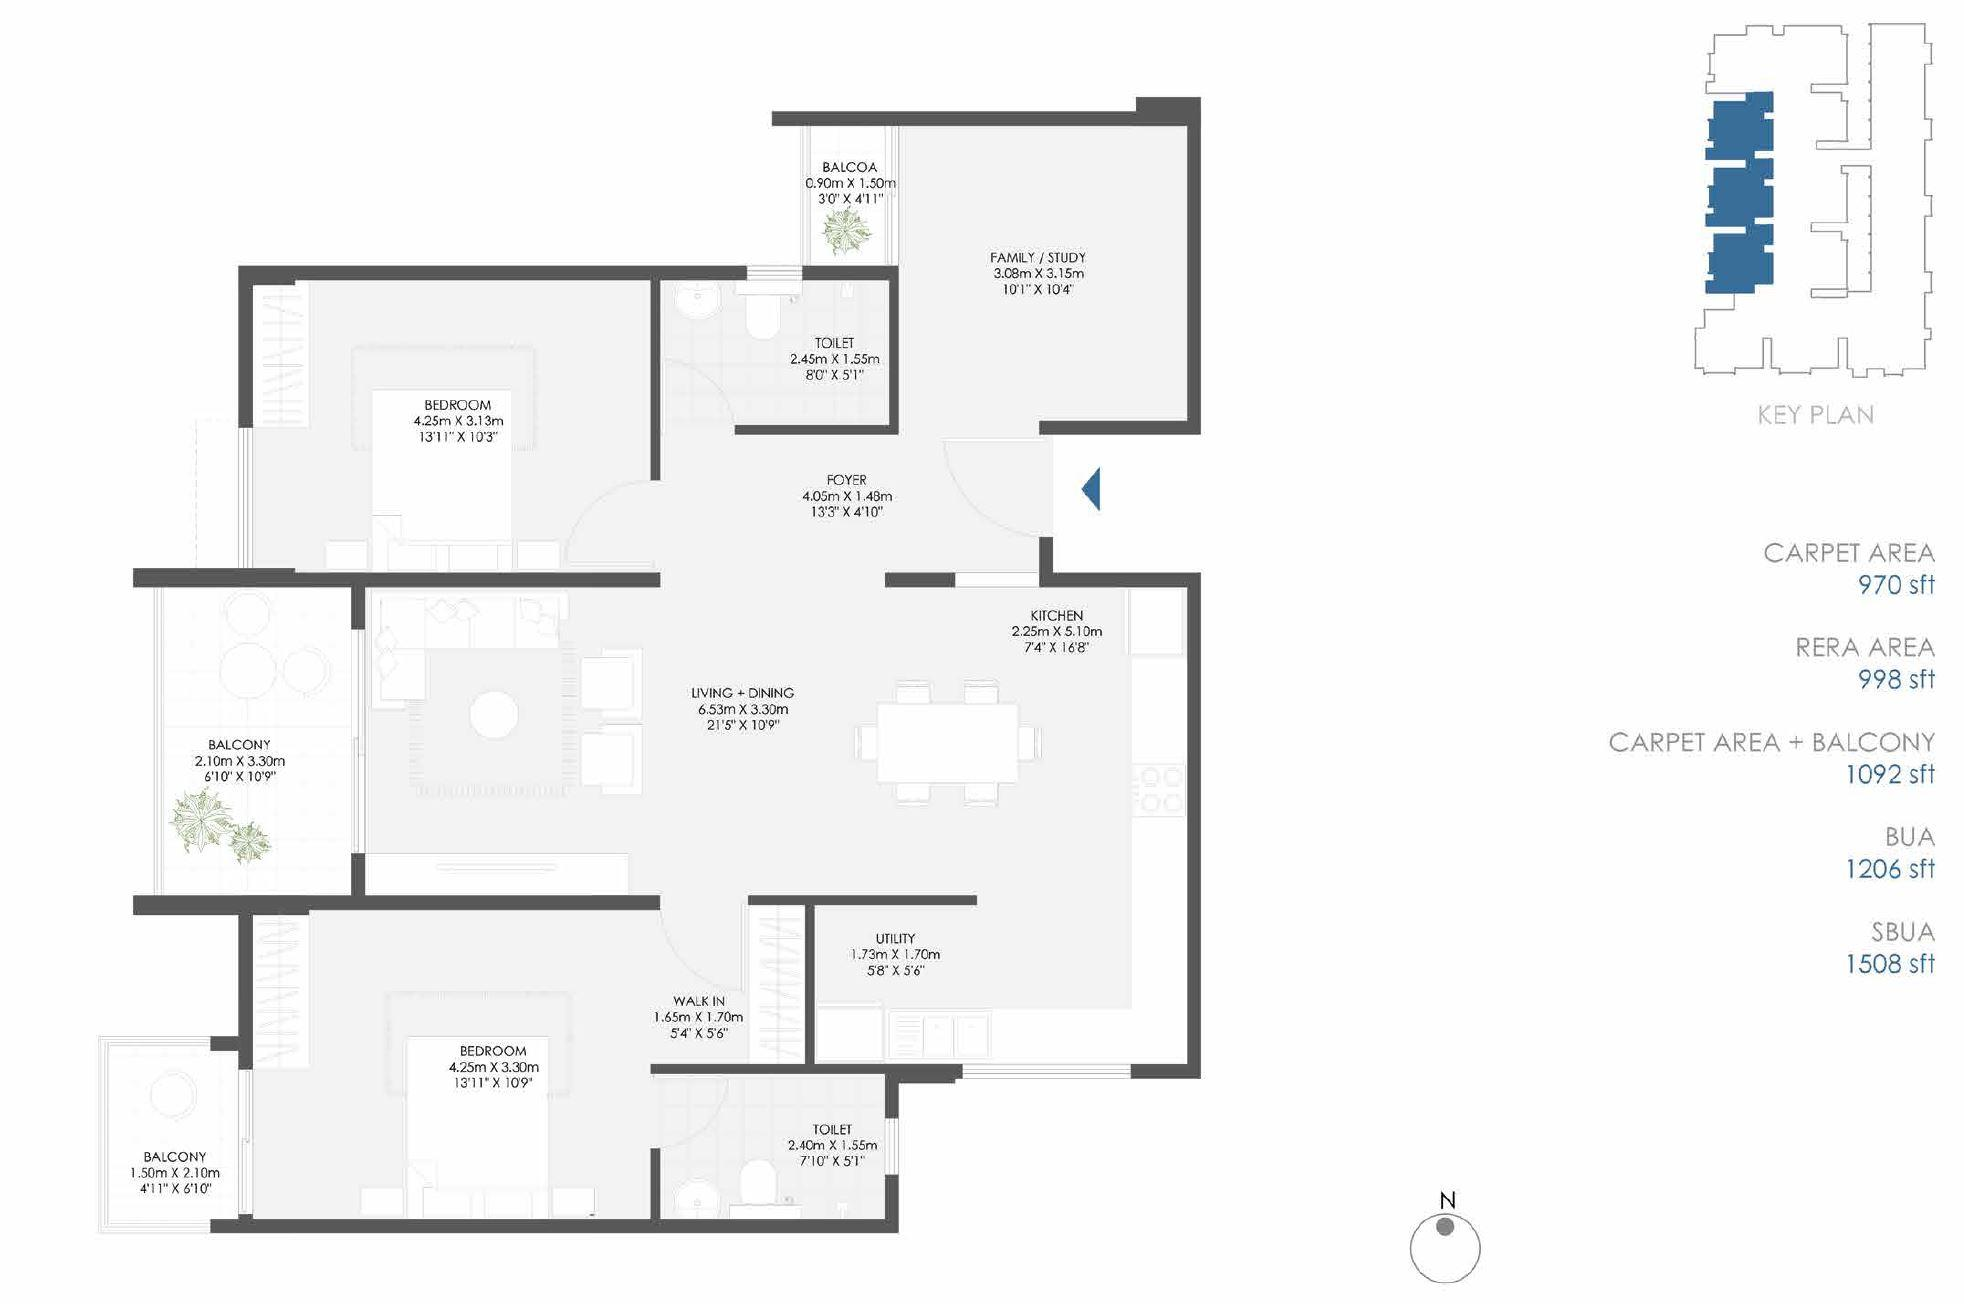Balcony: (150, 578, 357, 894), (106, 1040, 234, 1221)
Bed: (402, 1040, 561, 1221), (373, 385, 514, 569)
Bedroom: (250, 904, 652, 1221), (253, 284, 649, 568)
Dining Room: (738, 586, 1060, 886)
Dining table: (840, 674, 1048, 816)
Foyer: (657, 430, 1048, 580)
Kitchen: (994, 583, 1184, 1068)
Living Room: (352, 586, 705, 891)
Sofa: (370, 590, 568, 644), (370, 586, 429, 717), (579, 652, 641, 717), (582, 725, 642, 789)
Wardrobe: (748, 900, 809, 1062), (253, 283, 312, 435), (256, 915, 301, 1066)
balcoa: (804, 124, 892, 262)
commode: (743, 294, 786, 339), (743, 1152, 775, 1196)
door: (938, 433, 1054, 546), (550, 473, 665, 580), (338, 628, 384, 867), (652, 891, 744, 986), (660, 352, 750, 435), (654, 1068, 737, 1154), (224, 1060, 266, 1221)
fridge: (1128, 590, 1188, 654)
kitchen-slab: (1130, 654, 1188, 1065), (888, 1009, 1188, 1066)
sink: (894, 1017, 984, 1066), (674, 1172, 718, 1218), (676, 283, 722, 323)
stove: (1128, 762, 1189, 824)
study: (898, 124, 1189, 421)
toilet: (655, 1072, 892, 1221), (662, 275, 892, 428)
tv: (434, 848, 571, 894)
utility: (815, 904, 981, 1066)
walkin: (654, 894, 814, 1066)
washing-machine: (815, 1005, 885, 1062)
